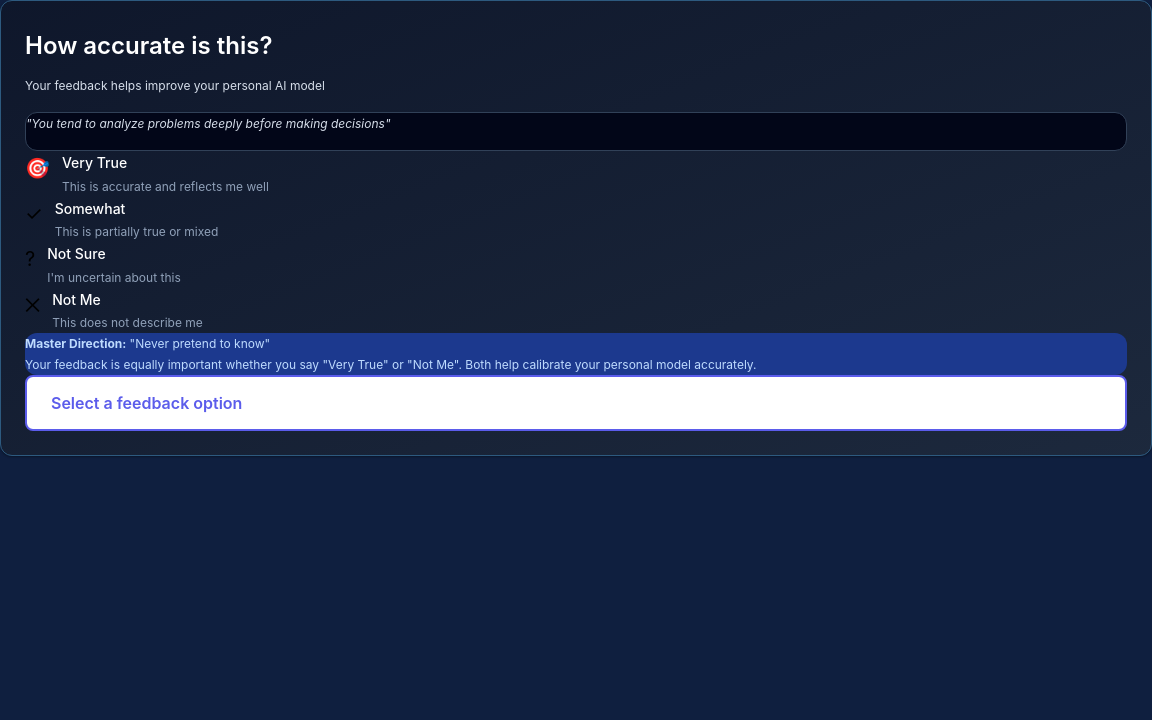
FeedbackWidget Integration Tests › Integration: Component → AIFeedbackLoop → Supabase › should handle feedback submission errors with user message
Select feedback
Click the button "🎯 Very True This is accurate and reflects me well" at (95, 162), box [25,151,1127,196]
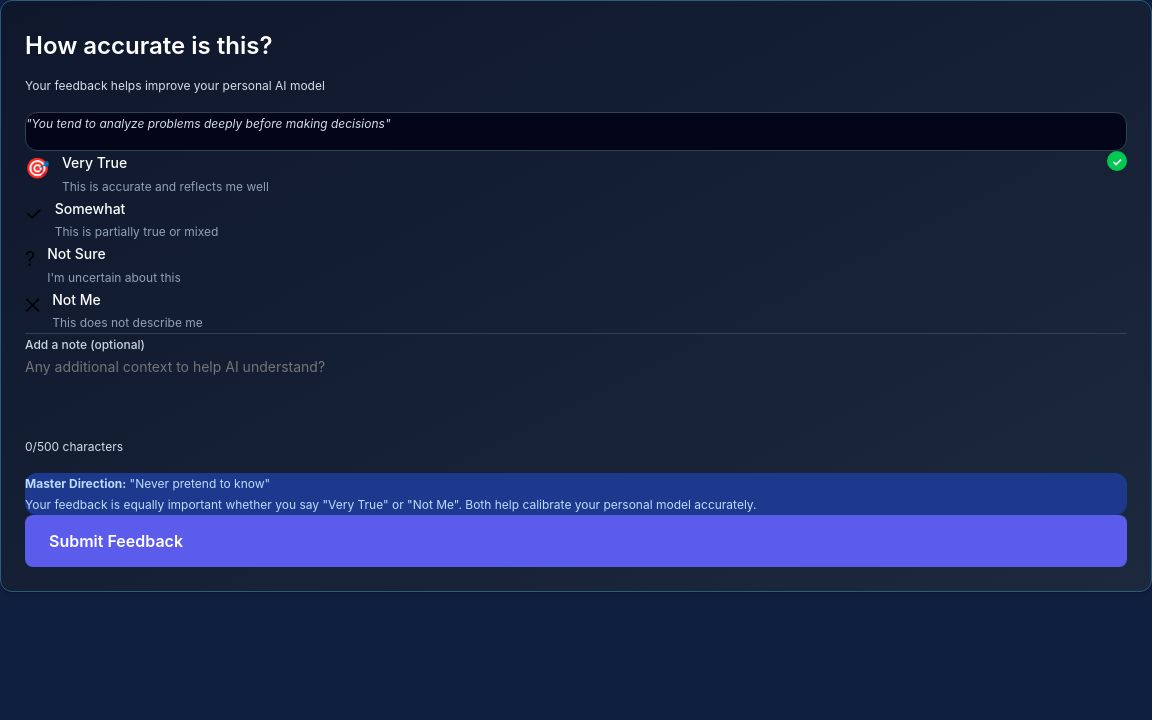
Wait for comment input to appear (rendered after feedback selected)
Type "Test comment" into the text box with placeholder "Any additional context to help AI understand?" at (576, 392), box [25,355,1127,428]
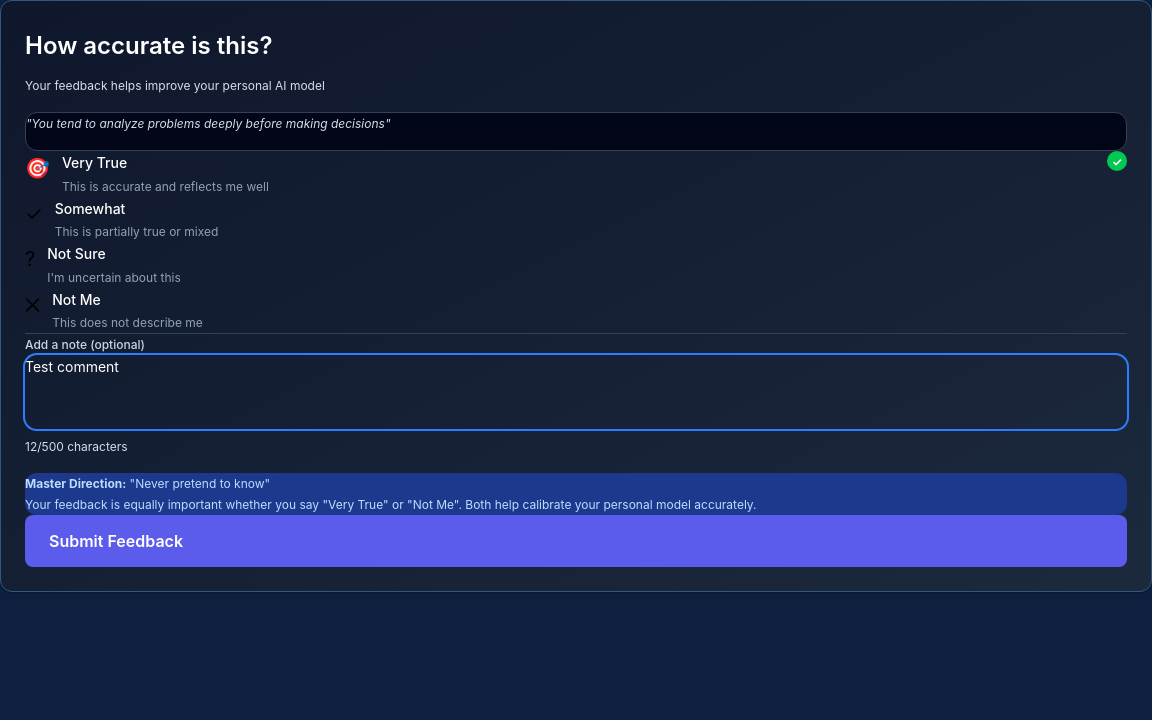
Click the button "Submit Feedback" at (116, 541), box [25,515,1127,567]
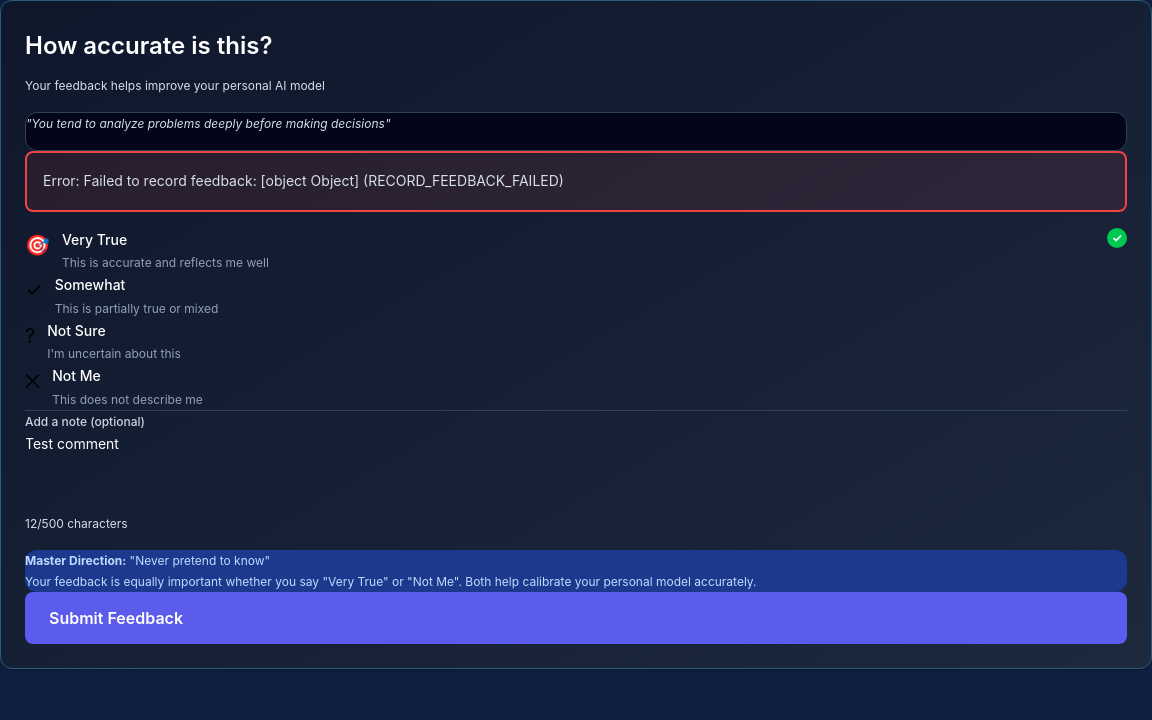
Expected: the text "RECORD_FEEDBACK_FAILED" is shown, [43,172,564,189]
